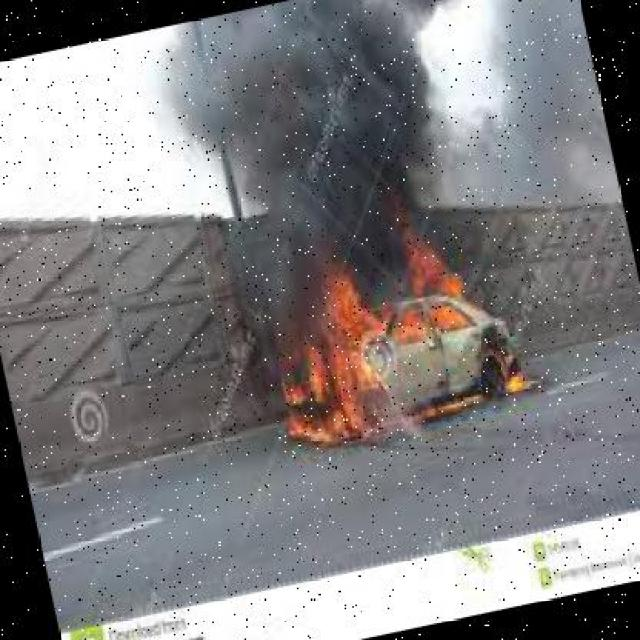fire: (250, 192, 548, 486)
